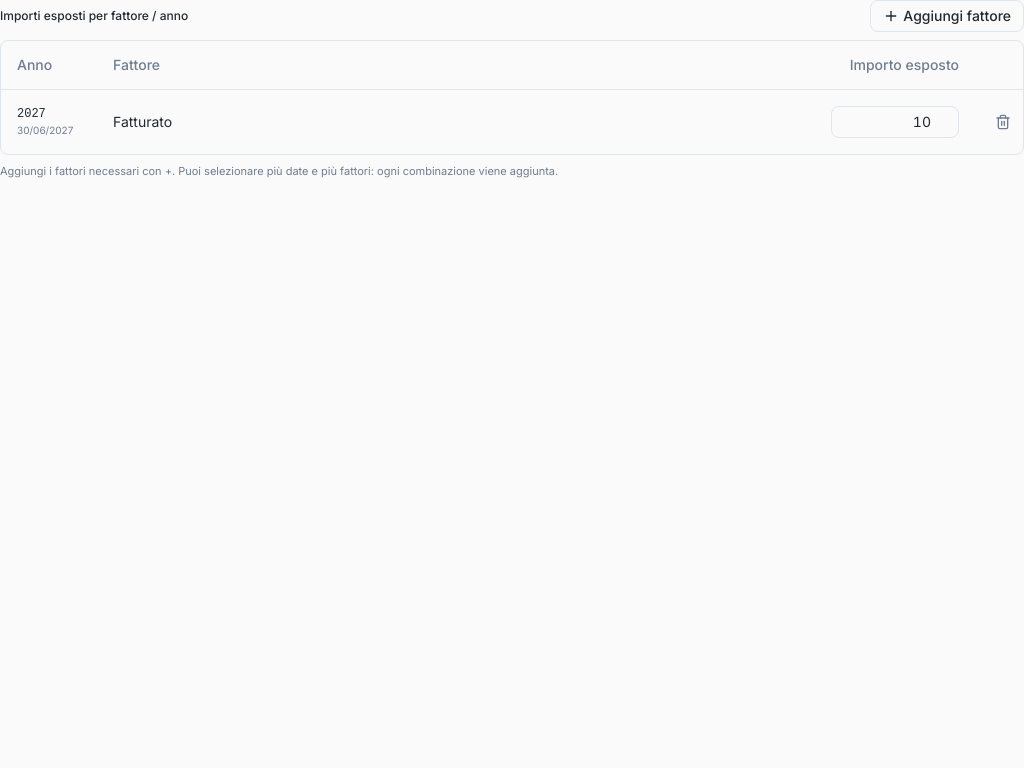
RegolazioneFattoriImportiGrid dialog › aggiunge il prodotto cartesiano date × fattori e ignora duplicati
Later steps or results of the test are not shown.
Click the button "Aggiungi fattore".
click(947, 16)  # box [870,0,1023,32]
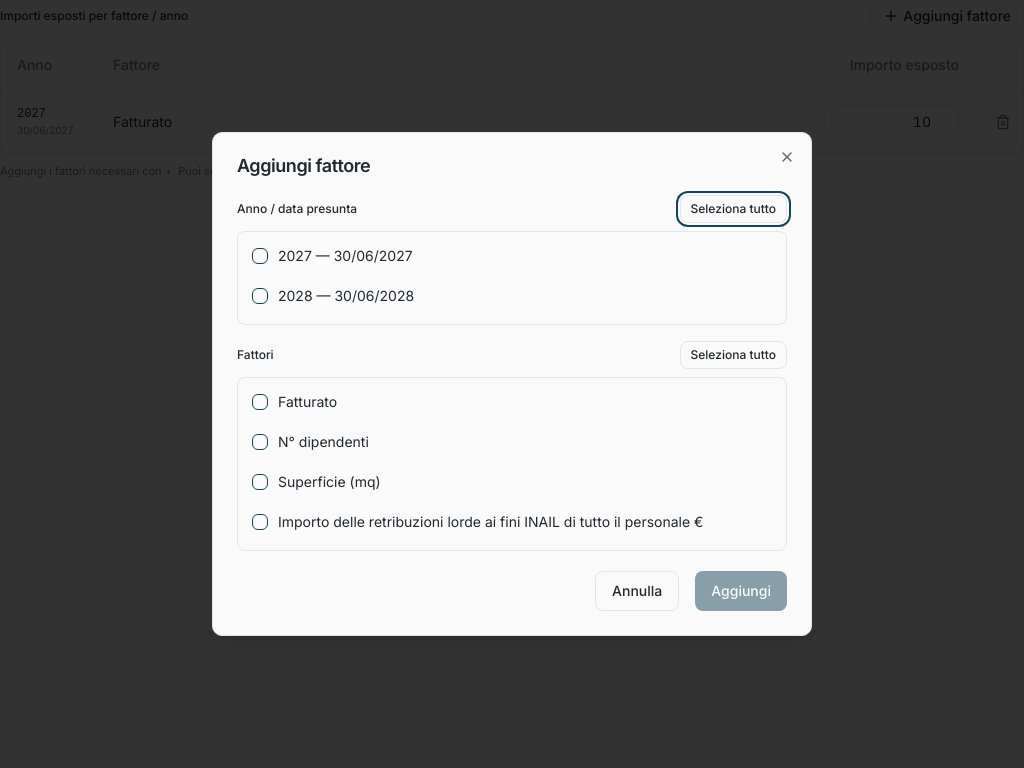
Click the checkbox named "2027 — 30/06/2027".
click(260, 256)  # box [252,248,268,264]
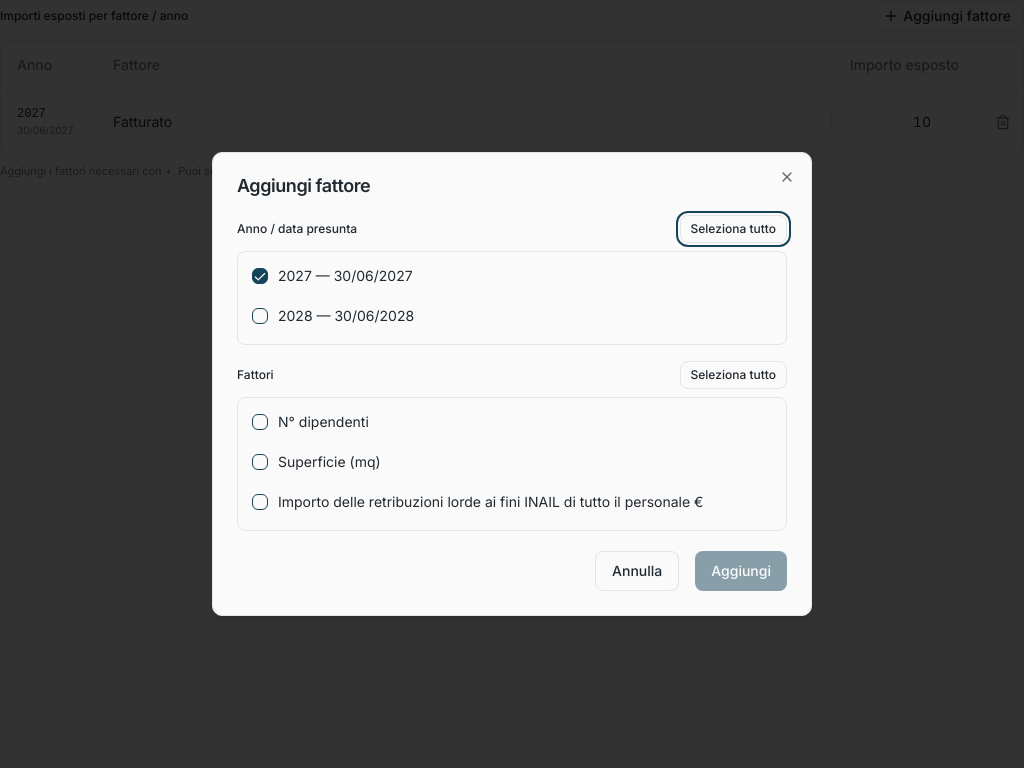
Click the checkbox named "2028 — 30/06/2028".
click(260, 316)  # box [252,308,268,324]
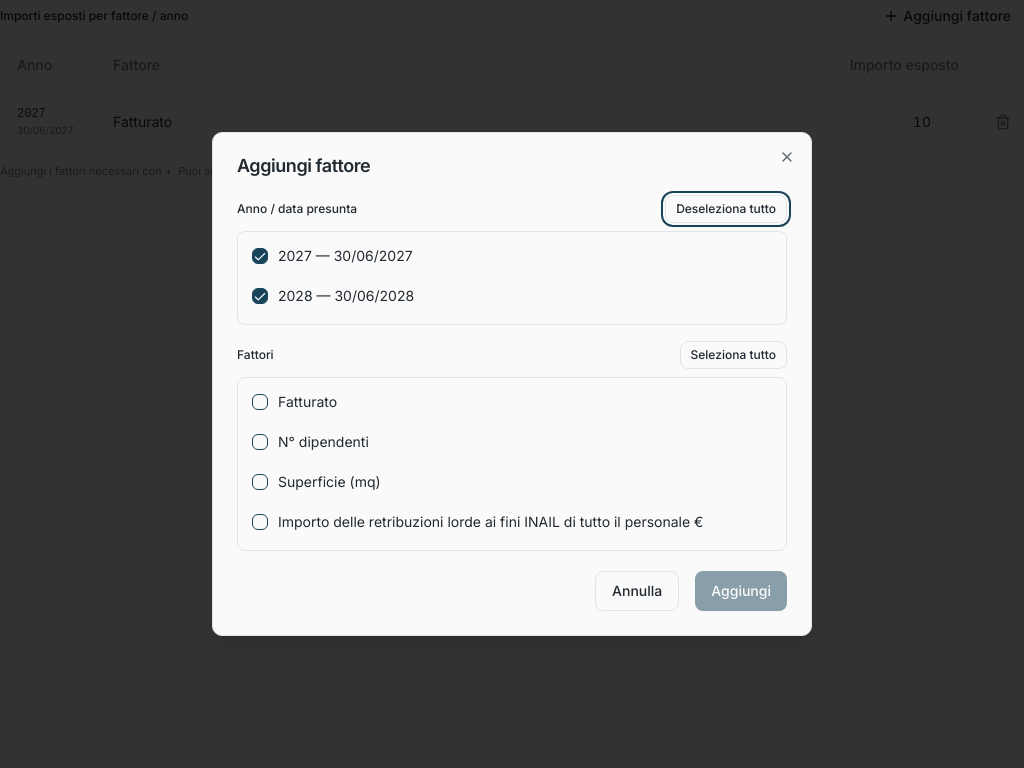
Click the checkbox named "Fatturato".
click(260, 402)  # box [252,394,268,410]
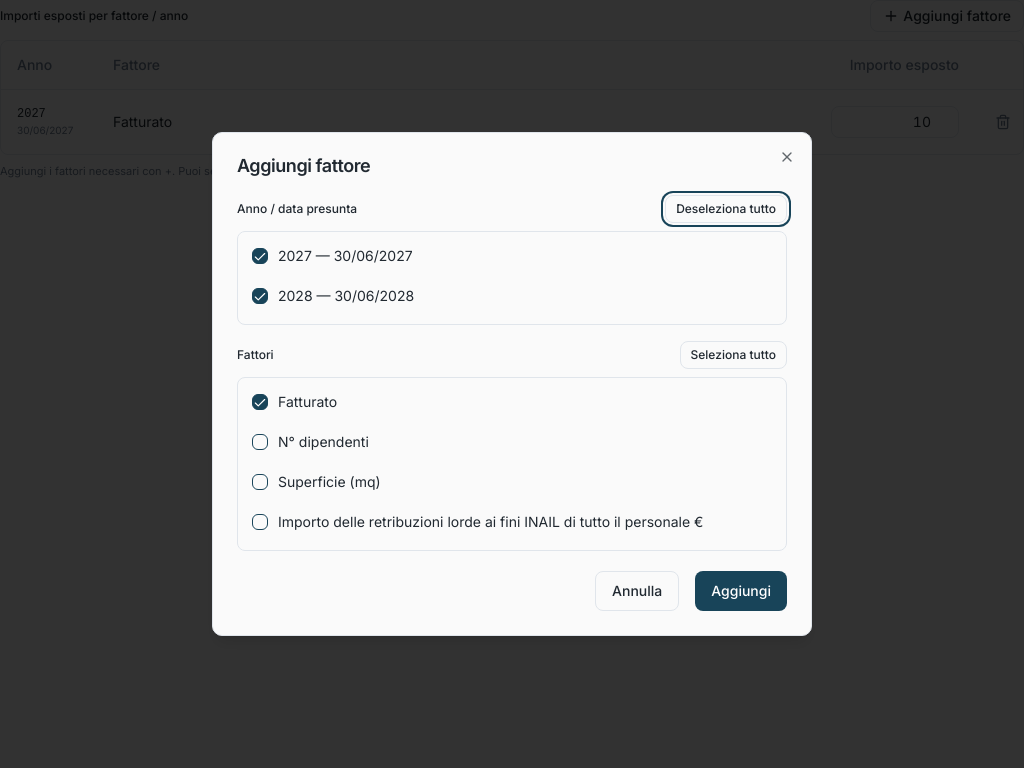
Click the checkbox named "N° dipendenti".
click(260, 442)  # box [252,434,268,450]
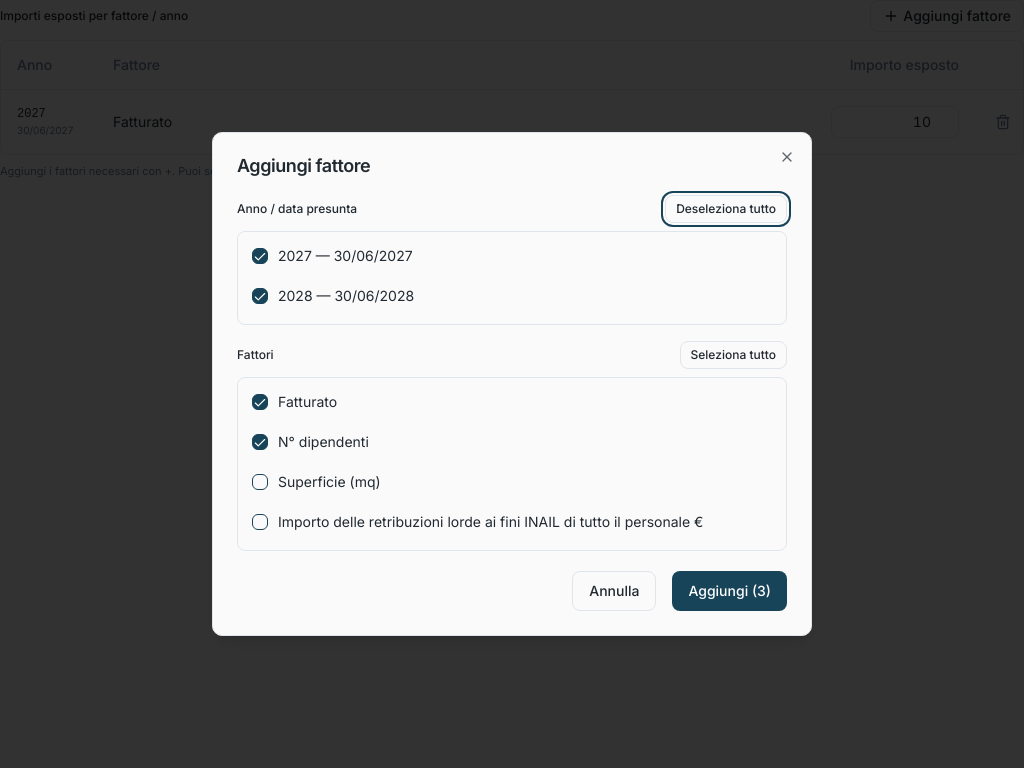
Check: the button "Aggiungi (3)" is enabled, box [672,571,787,611]
